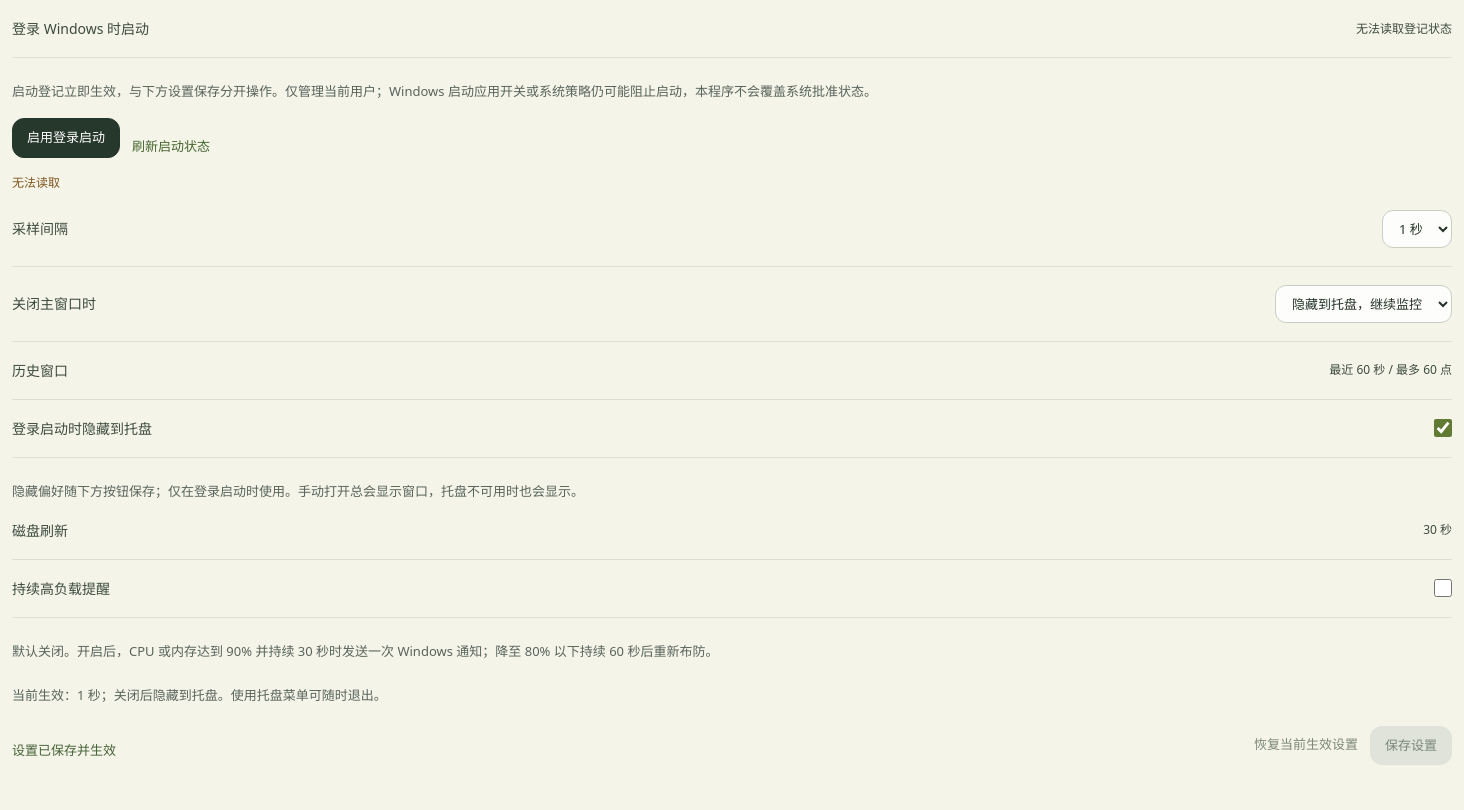
shows unknown read failures and preserves actual state on failed change without submitting drafts
Expected: the text "无法读取登记状态" is shown, [1356,20,1452,38]
Select "5 秒" in the dropdown labelled "采样间隔". click: (1417, 229)
box: [1382,210,1452,248]
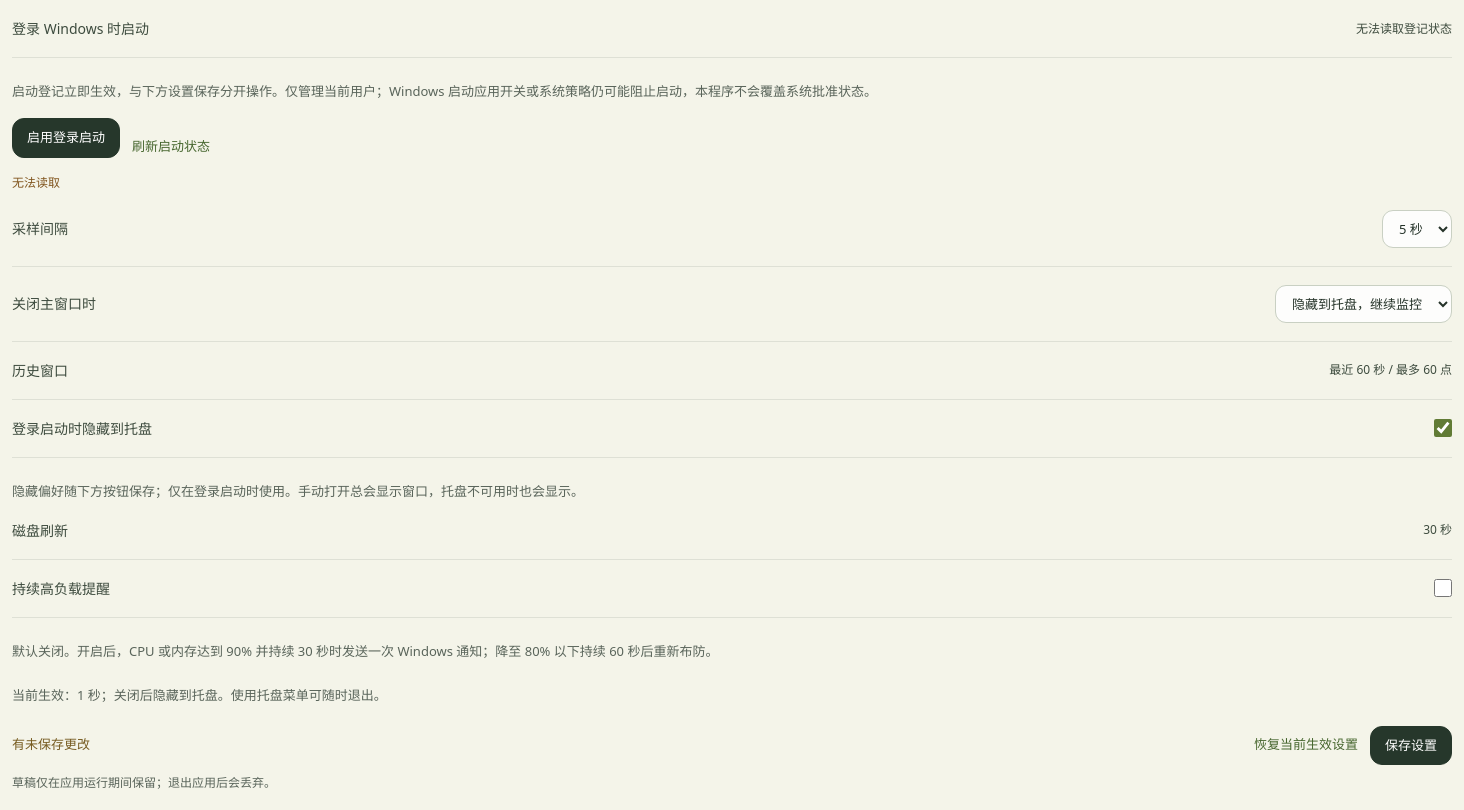
Click the button "刷新启动状态". click: click(171, 147)
box: [132,137,210,157]
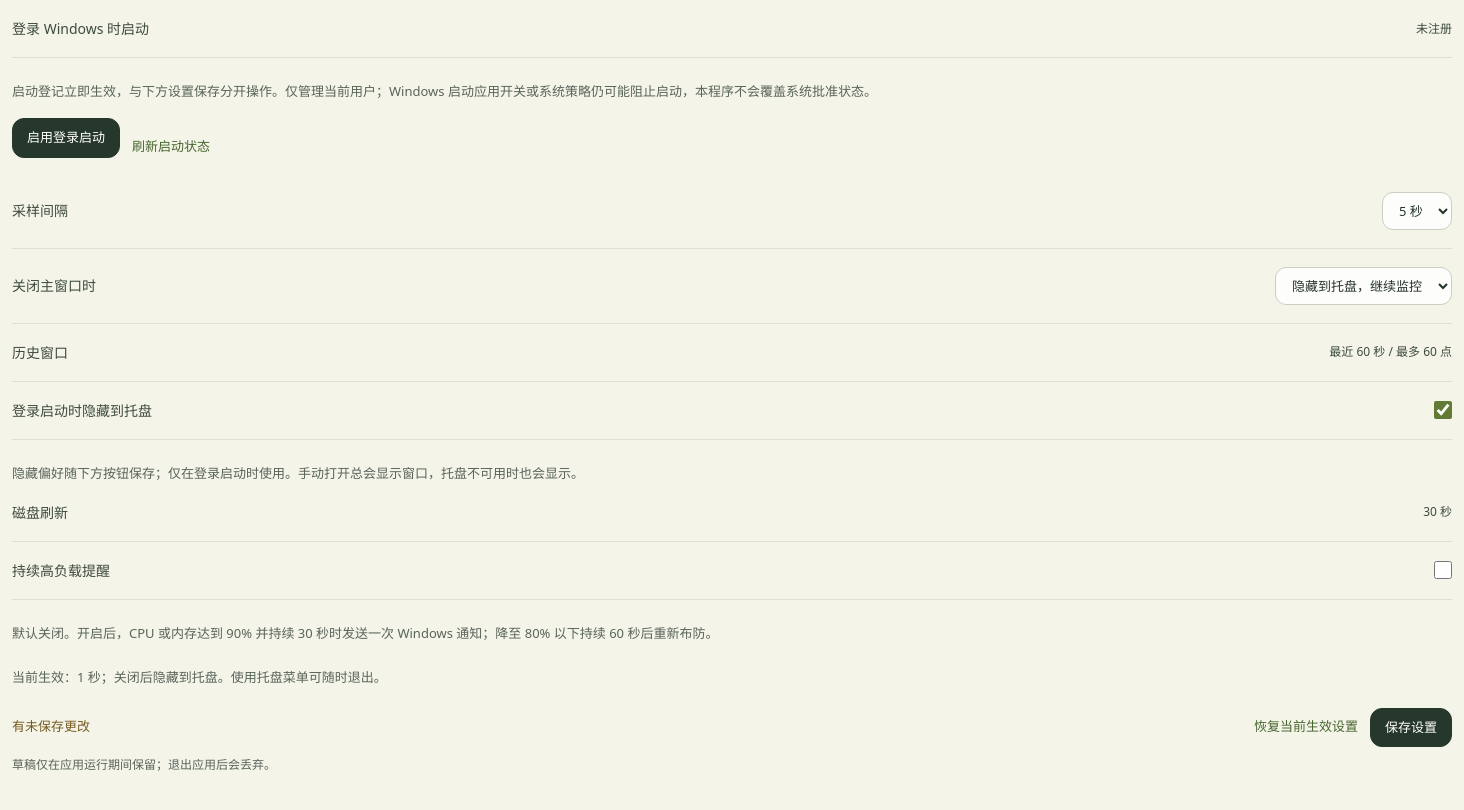
Result: the text "未注册" is shown at [1416,20,1452,38]
Click the button "启用登录启动". click: click(66, 138)
box: [12,118,120,158]
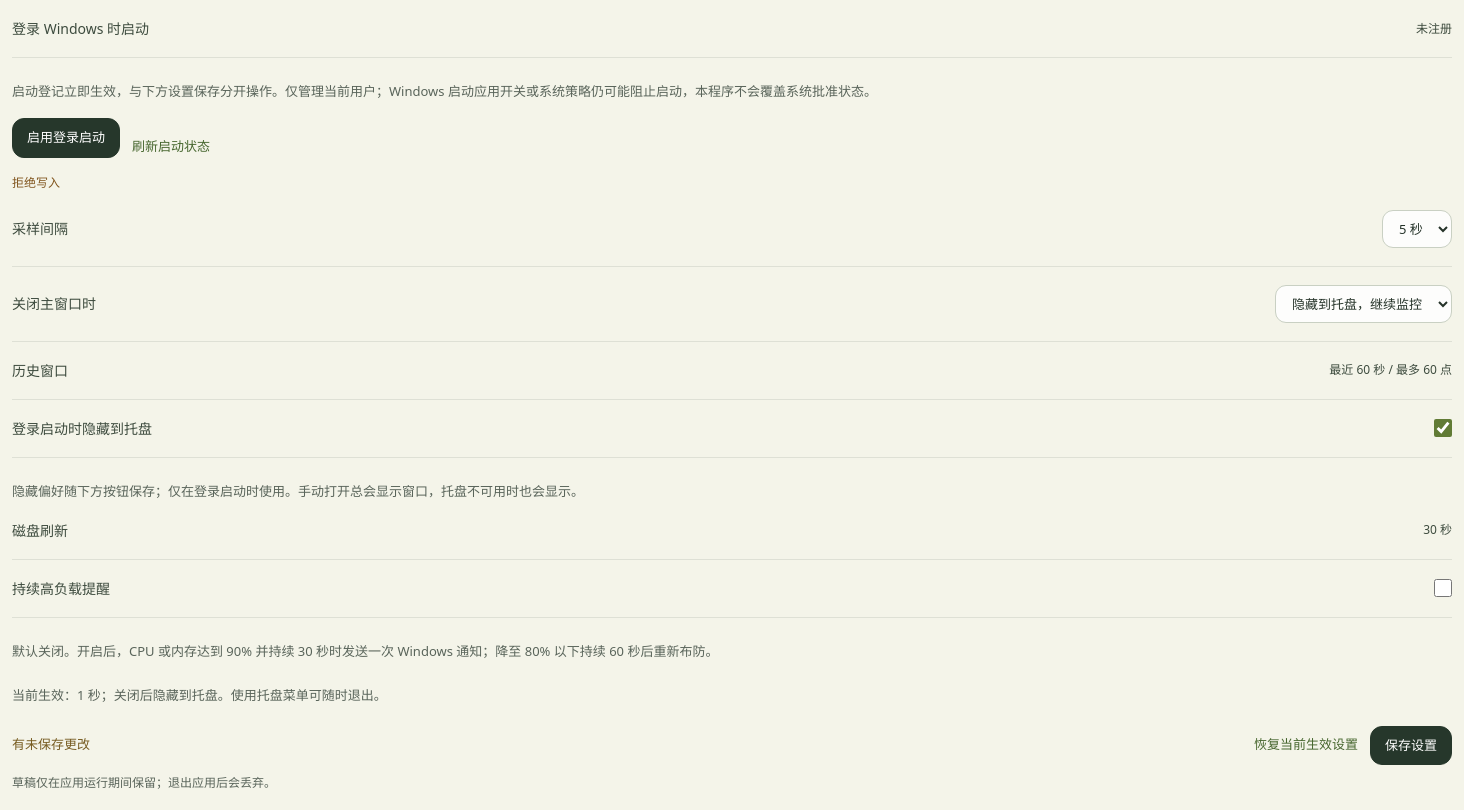
Result: the text "未注册" is shown at [1416,20,1452,38]
Result: the text "拒绝写入" is shown at [12,174,60,191]
